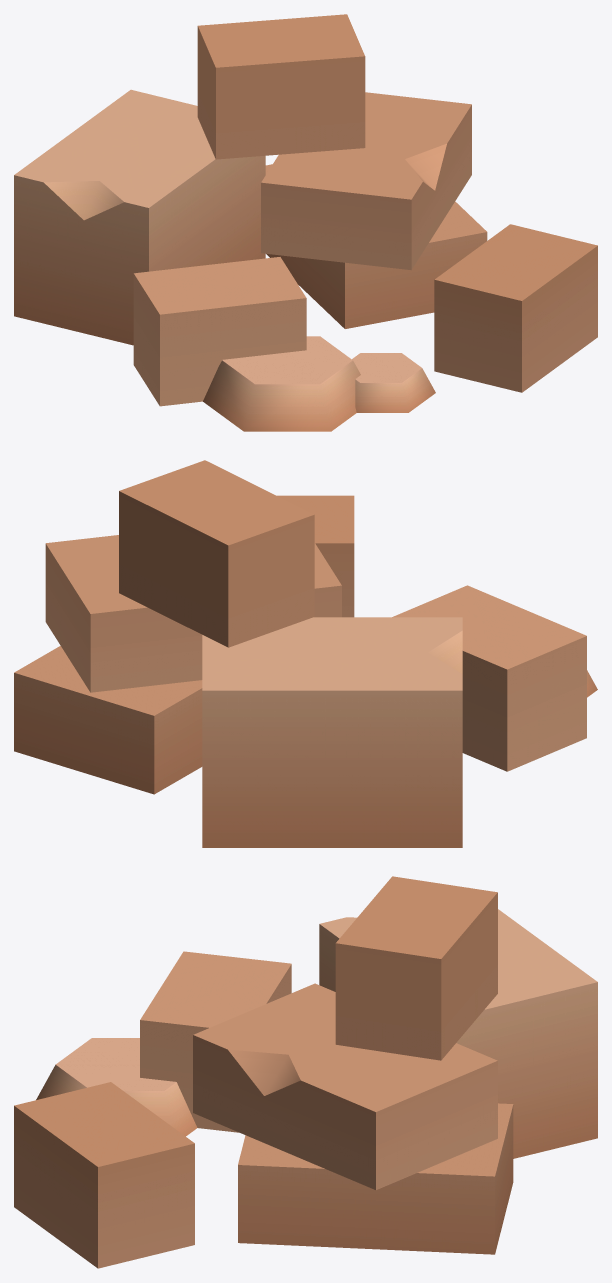
Rendered from bricks.glb.
3 renders of one model, top to bottom at view 1: azimuth 30°, elevation 25°; view 2: azimuth 150°, elevation 25°; view 3: azimuth 270°, elevation 25°, orthographic. The views are drawn at different scales.
Visible parts, largest first — view 1: bricks; view 2: bricks; view 3: bricks.
Part boxes in pixels (box(x1,y1,x2,y2)): bricks: box(14, 14, 597, 431); bricks: box(14, 460, 597, 847); bricks: box(14, 876, 597, 1268).
Size of the model in its own units: 0.772 by 0.4125 by 0.8469.
Materials: 1 (1 with a texture image).
